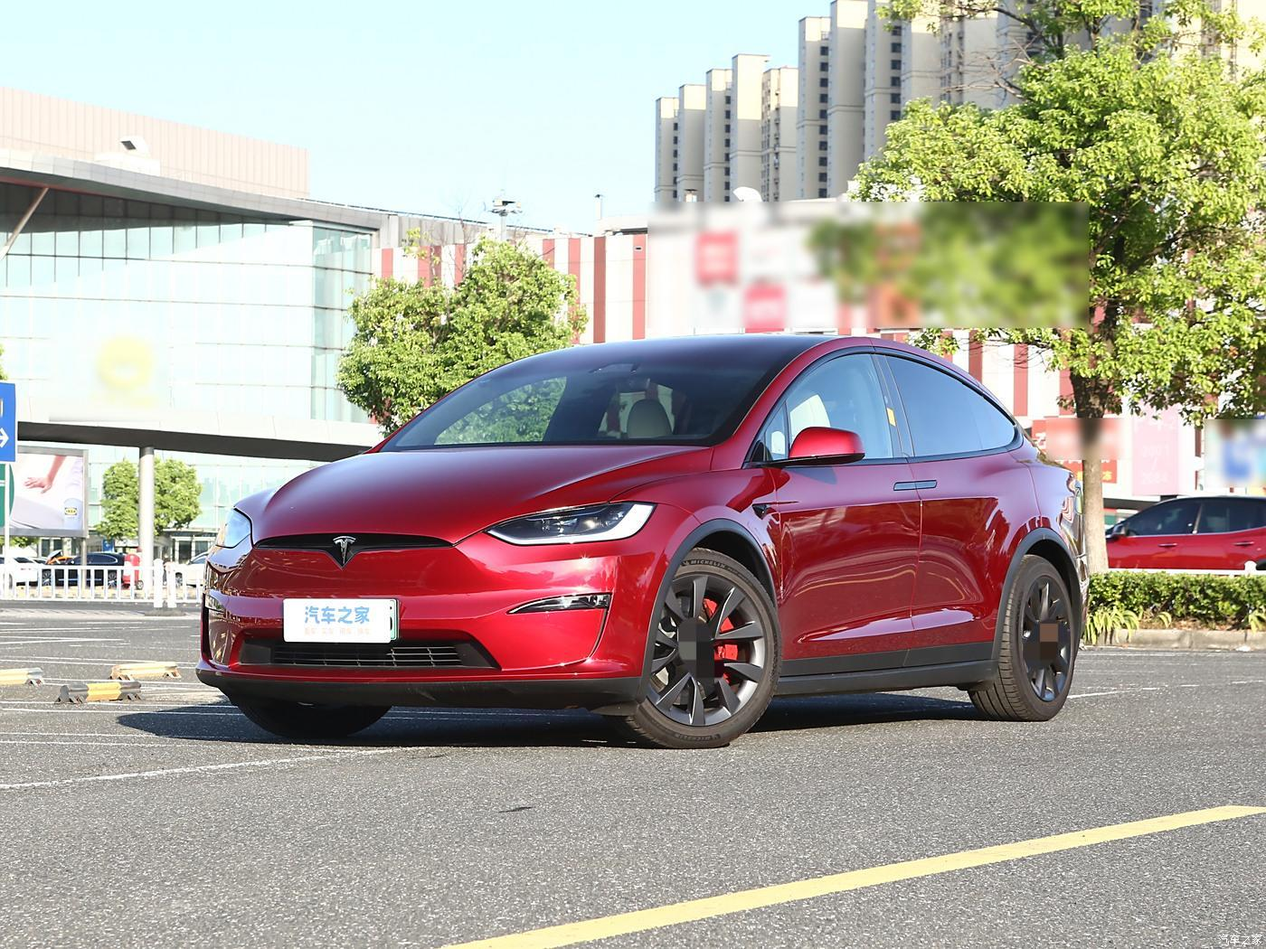Tesla: (332, 536, 356, 568)
